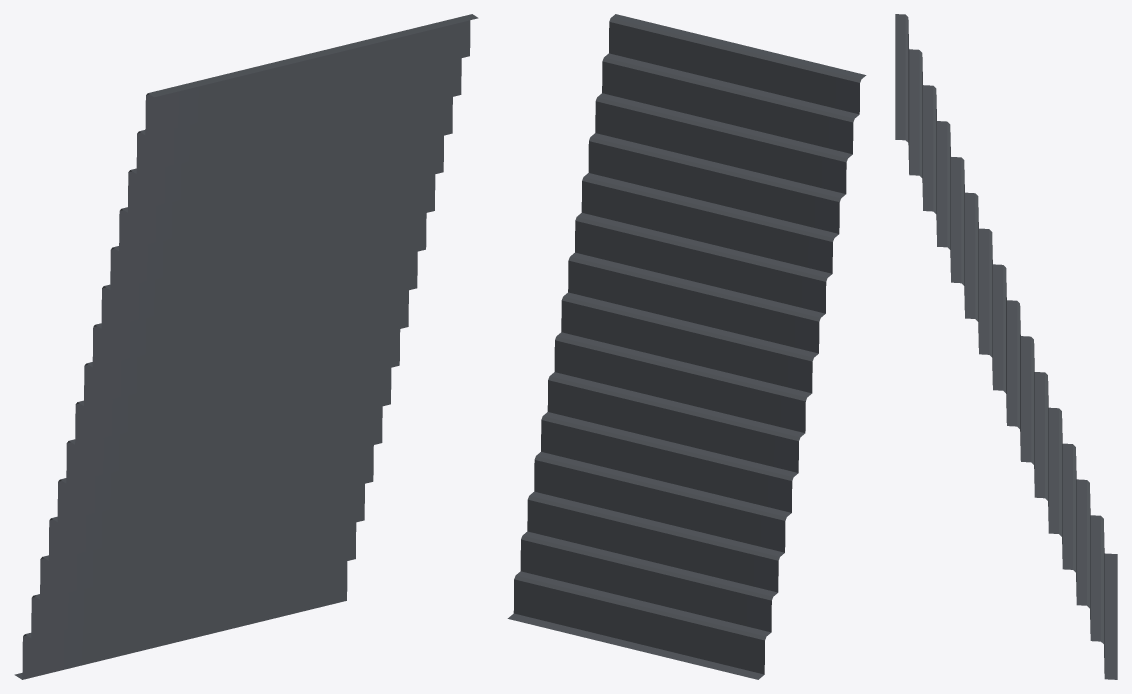
The model's file is Stairs 02.FBX.
3 renders of one model, left to right at view 1: azimuth 30°, elevation 25°; view 2: azimuth 150°, elevation 25°; view 3: azimuth 270°, elevation 25°, orthographic. The views are drawn at different scales.
Parts seen in each view (by area): view 1: Stairs 02; view 2: Stairs 02; view 3: Stairs 02.
Boxes of the visible parts, x1,y1,x2,y2 form: Stairs 02: (14,14,478,679); Stairs 02: (507,14,866,679); Stairs 02: (895,14,1117,679).
Bounding box in the file's own units: 200 × 400 × 149.
